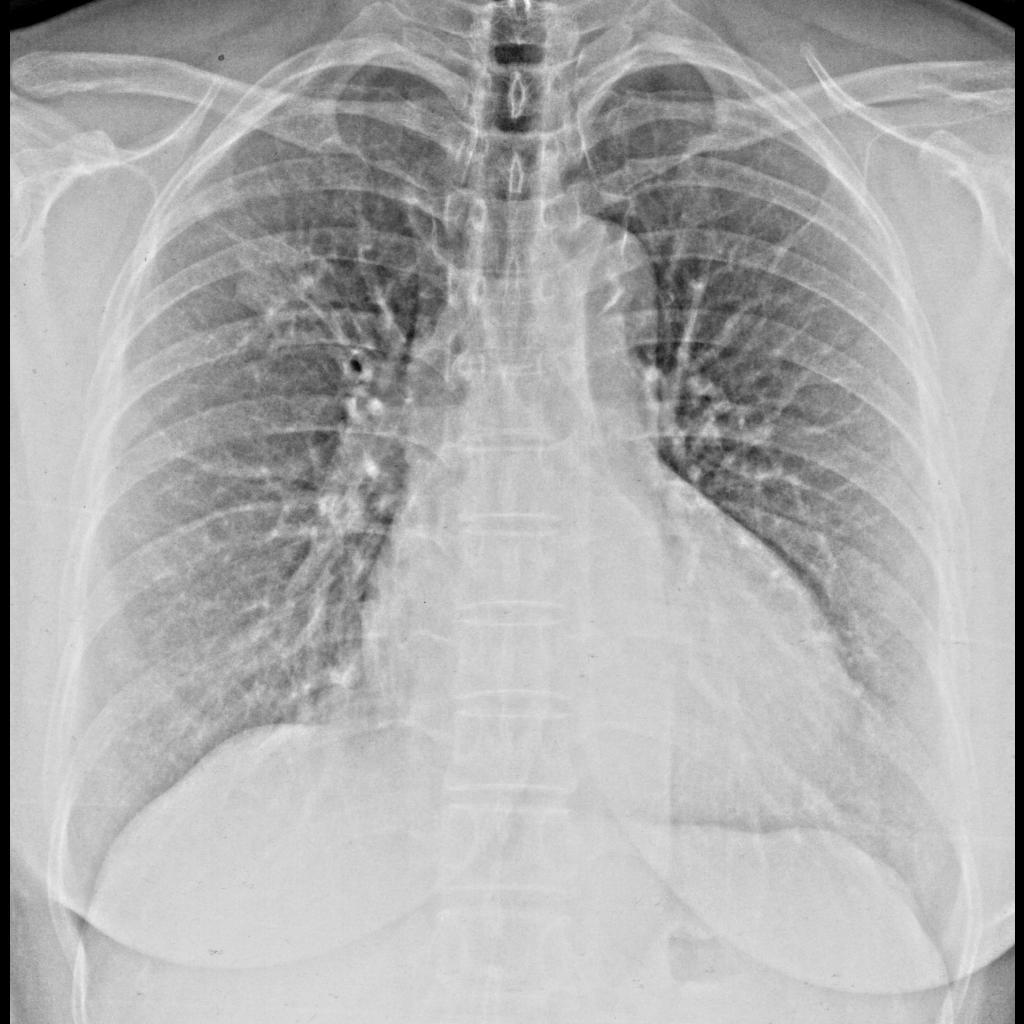Nodule: (238, 232, 329, 323)
